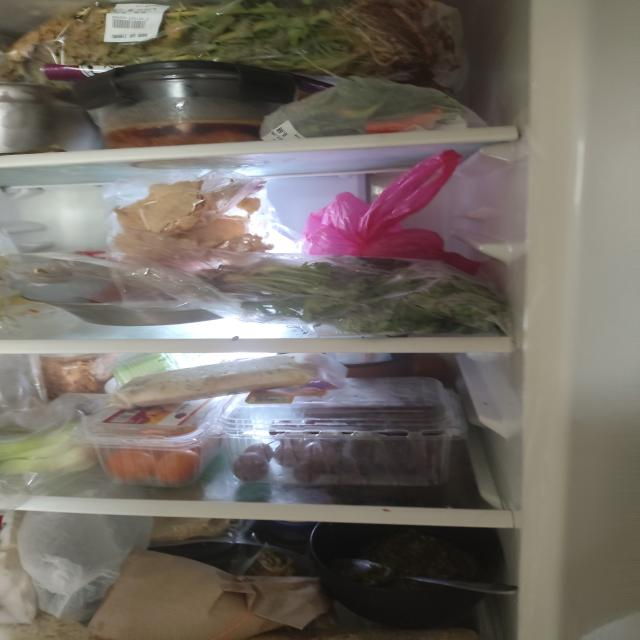grape: (232, 406, 448, 482)
leafy_greens: (11, 0, 472, 77), (0, 417, 100, 477)
tempeh: (110, 353, 329, 408)
